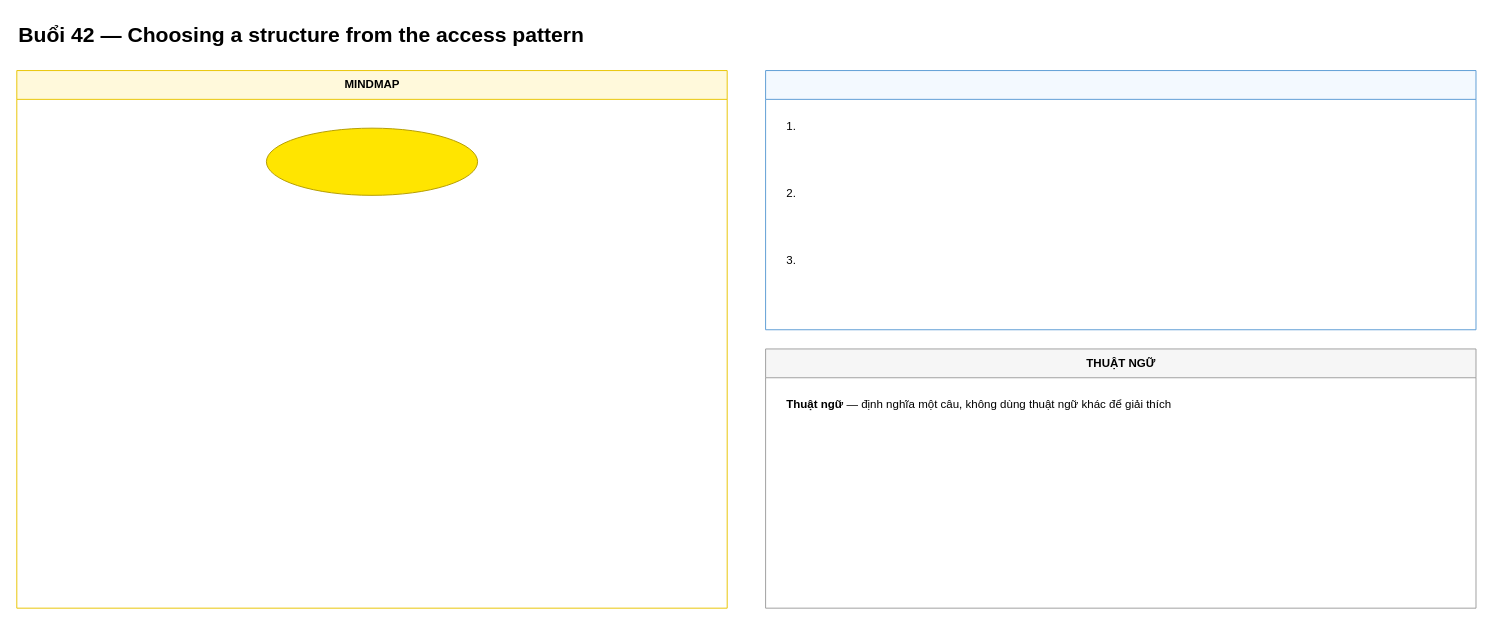
Some shapes in this 1493 by 625 pixel diagram are drawn without their labels. The shapes that lost their labels are listed below. From the top down, each one's box as (x1, y1, x2, y2) in pixels, then its label:
(265, 127, 478, 195): Choosing a structure from the access pattern
(765, 70, 1476, 330): KEY TAKEAWAY — ba điều phải nhớ
